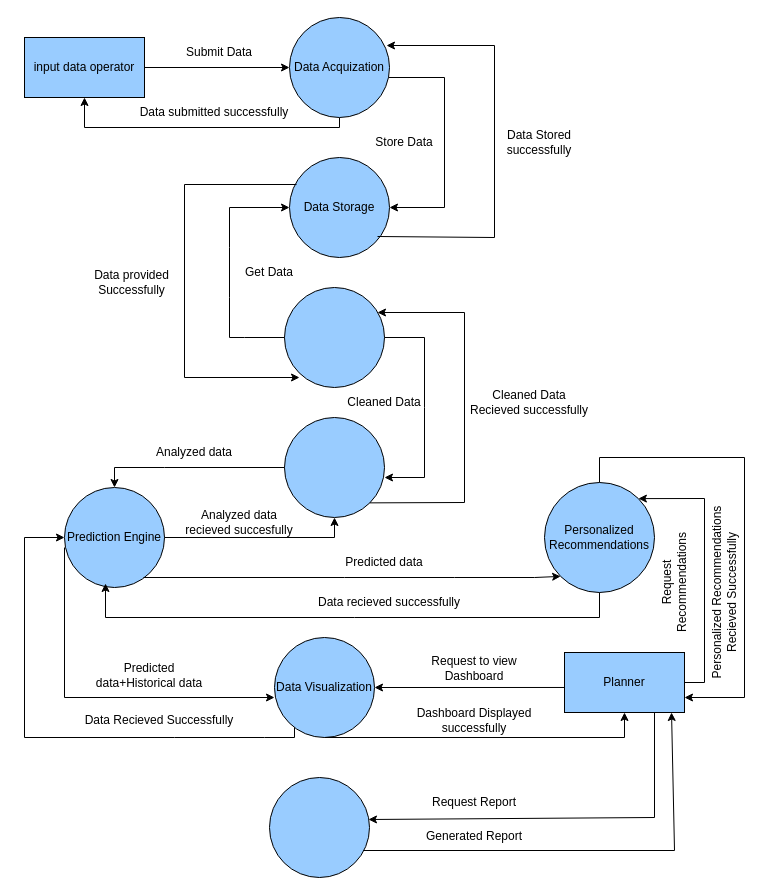
Some shapes in this 770 by 895 pixel diagram are drawn without their labels. Here are the shapes that lost their labels. From the top down, the centre of each, then its label:
At pixel 334 337: "ETL".
At pixel 334 467: "Scenerio Analysis".
At pixel 319 827: "Report".
